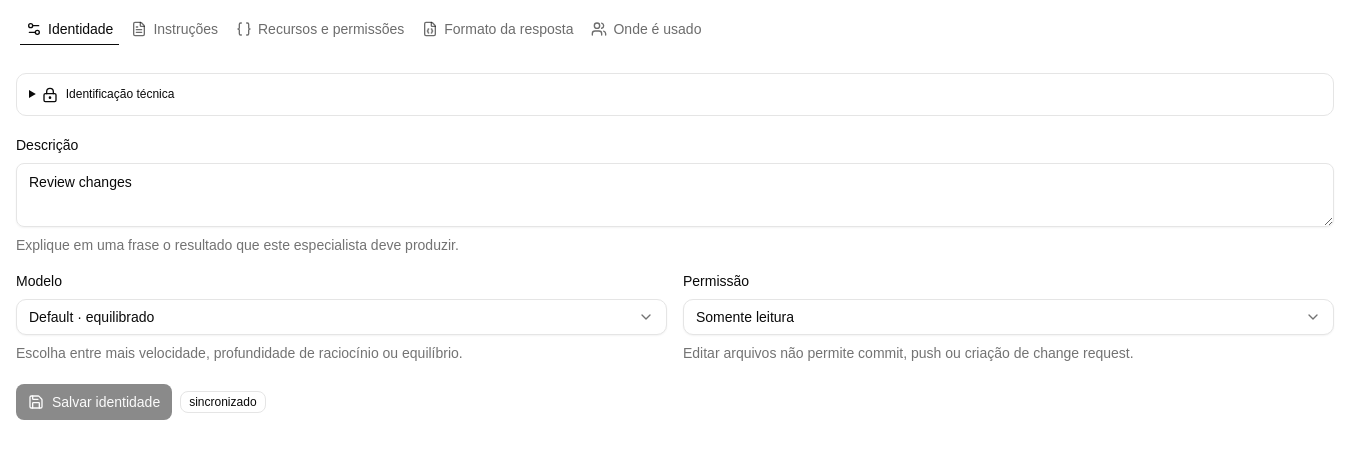
Test: AgentStructuredEditor › uses canonical registered-schema precedence over a same-named local decoy
This screenshot has width=1351, height=451.
Click the tab "Formato da resposta" at [498, 29], box [415, 16, 580, 42]
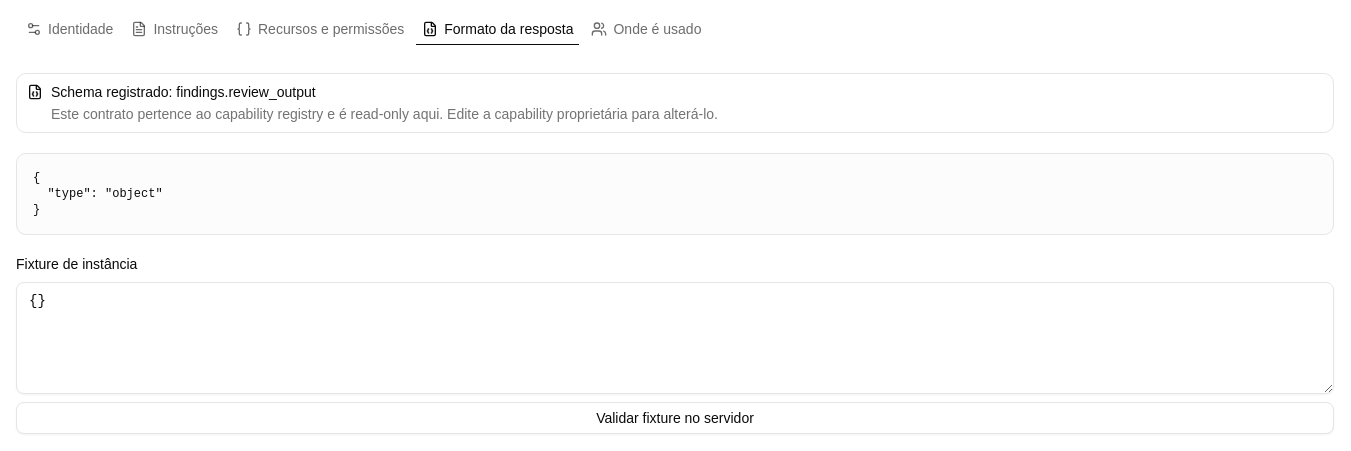
Result: the text "Schema registrado: findings.review_output" is shown at [51, 84, 316, 100]
